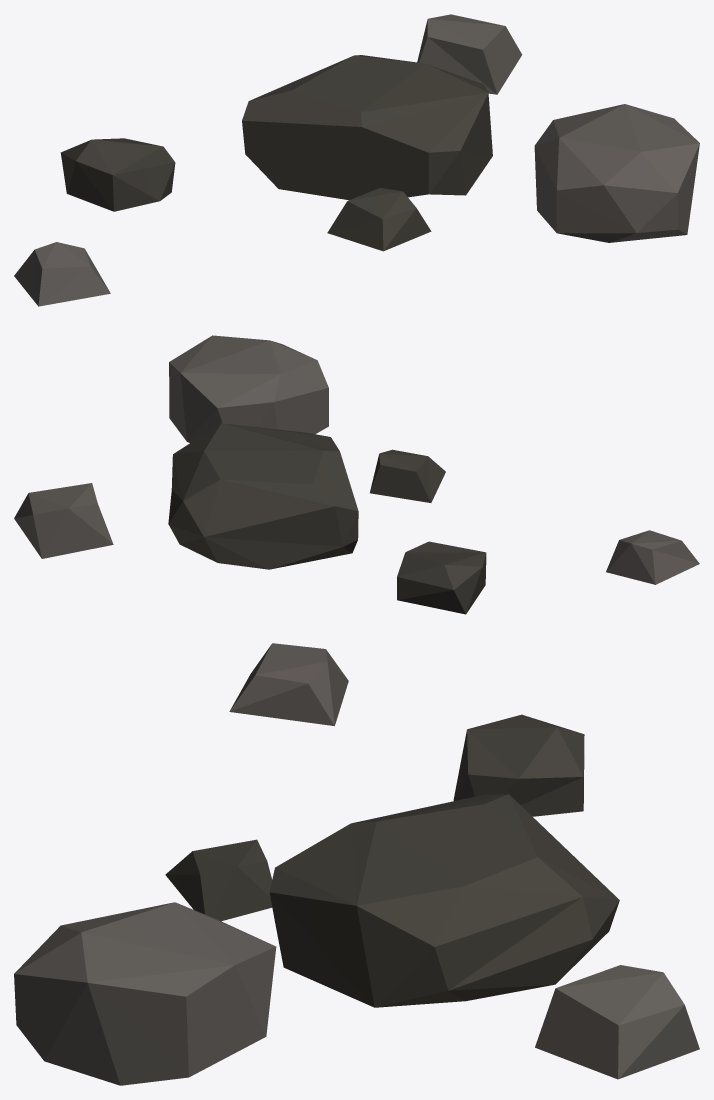
The model's file is SM_Env_Rocks_Small_02.glb.
3 renders of one model, top to bottom at view 1: azimuth 30°, elevation 25°; view 2: azimuth 150°, elevation 25°; view 3: azimuth 270°, elevation 25°, orthographic. The views are drawn at different scales.
Visible parts, largest first — view 1: SM_Env_Rocks_Small_02; view 2: SM_Env_Rocks_Small_02; view 3: SM_Env_Rocks_Small_02.
Boxes of the visible parts, x1=… form: SM_Env_Rocks_Small_02: x1=14, y1=14, x2=699, y2=306; SM_Env_Rocks_Small_02: x1=14, y1=335, x2=699, y2=614; SM_Env_Rocks_Small_02: x1=14, y1=643, x2=699, y2=1085.
Size of the model in its own units: 148 by 21.26 by 106.
1 material, 1 textured.
